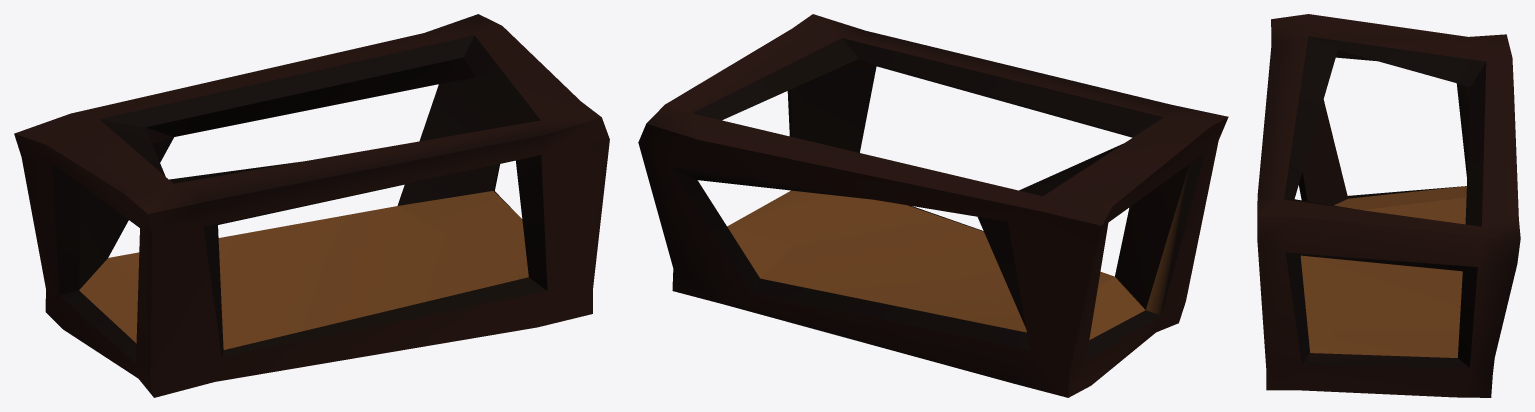
File: c_box_rectangle_hollow_ab.fbx
3 renders of one model, left to right at view 1: azimuth 30°, elevation 25°; view 2: azimuth 150°, elevation 25°; view 3: azimuth 270°, elevation 25°, orthographic. The views are drawn at different scales.
Visible parts, largest first — view 1: c_box_rectangle_hollow_ab; view 2: c_box_rectangle_hollow_ab; view 3: c_box_rectangle_hollow_ab.
Boxes of the visible parts, x1,y1,x2,y2 form: c_box_rectangle_hollow_ab: (14,14,609,397); c_box_rectangle_hollow_ab: (638,14,1228,397); c_box_rectangle_hollow_ab: (1257,14,1520,397).
Size of the model in its own units: 2 by 0.8337 by 1.06.
